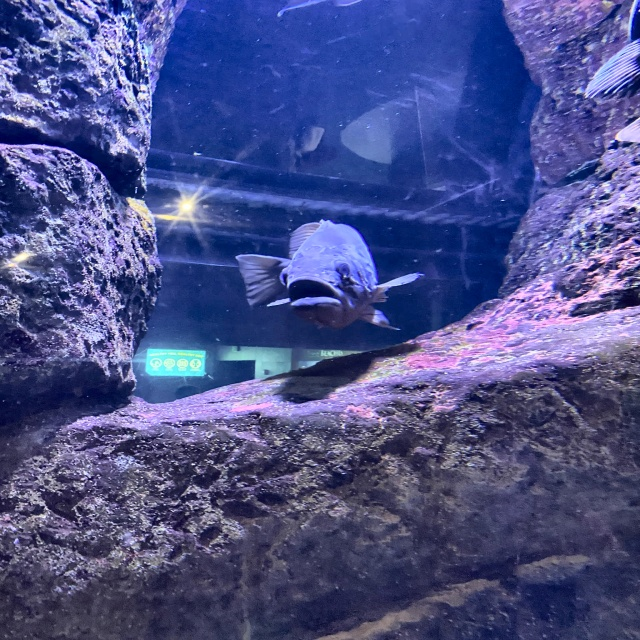fish: (234, 219, 424, 332)
